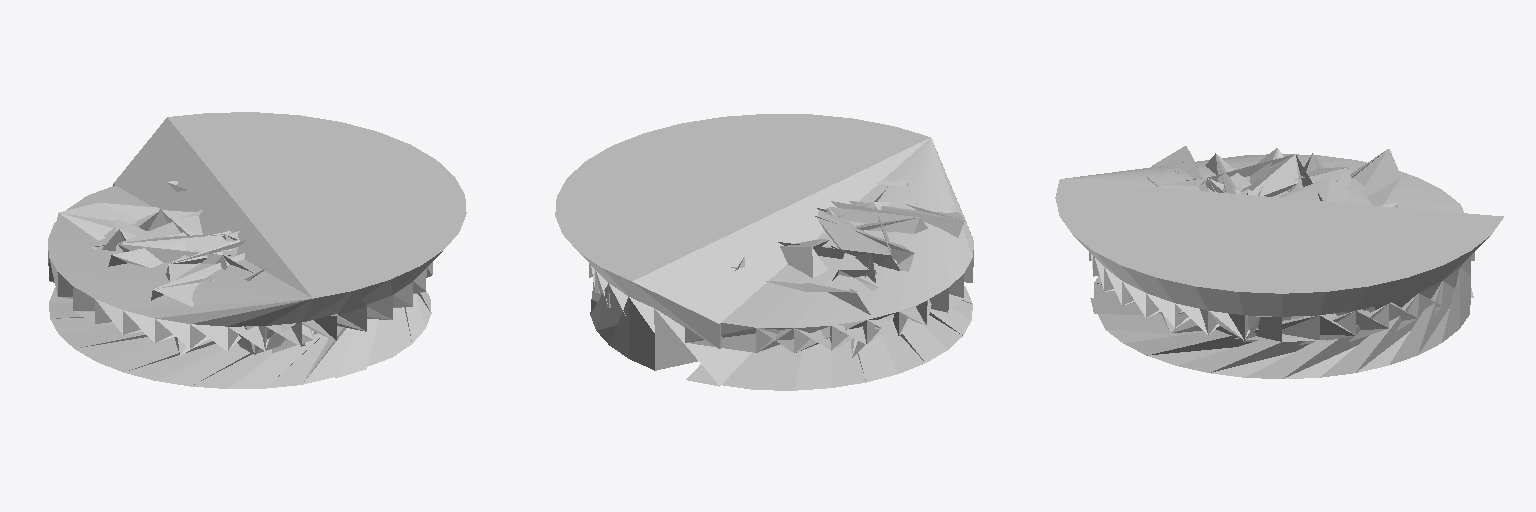
File: Fish tank.obj
3 renders of one model, left to right at view 1: azimuth 30°, elevation 25°; view 2: azimuth 150°, elevation 25°; view 3: azimuth 270°, elevation 25°, orthographic.
Visible parts, largest first — view 1: Sphere035, Object002, Plane013; view 2: Sphere035, Object002, Plane013; view 3: Sphere035, Object002.
Boxes of the visible parts, box(x1,y1,x2,y2) form: Sphere035: box(48, 112, 466, 388); Object002: box(115, 231, 316, 355); Plane013: box(166, 235, 239, 354); Sphere035: box(555, 114, 973, 390); Object002: box(830, 183, 964, 270); Plane013: box(817, 207, 927, 233); Sphere035: box(1055, 148, 1503, 378); Object002: box(1146, 146, 1374, 333).
Bounding box in the file's own units: 506371 × 135567 × 542043.